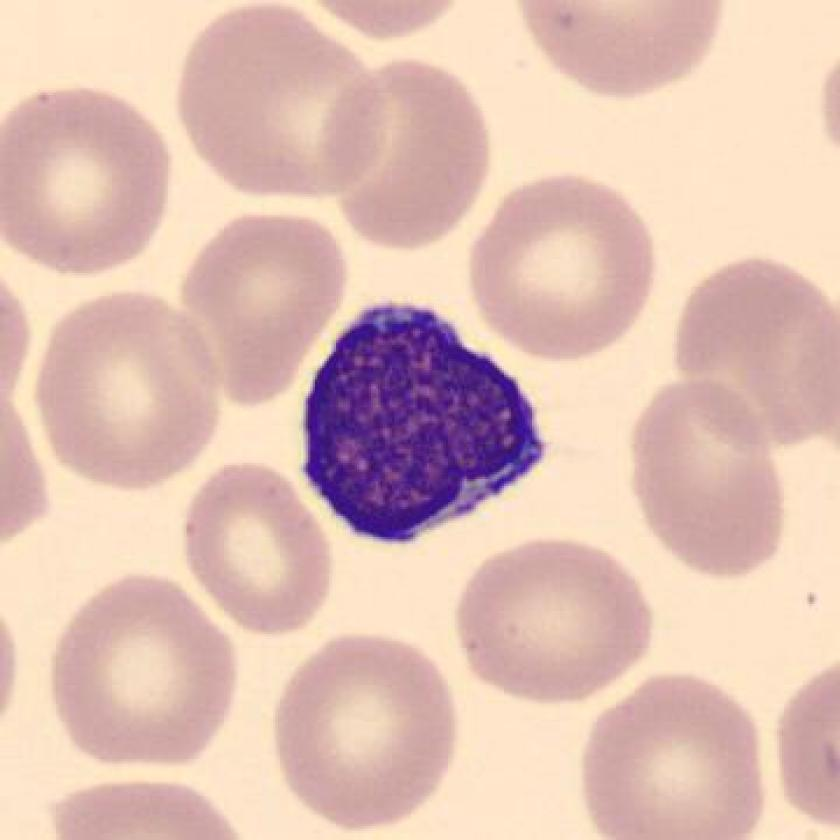lymphocyte: (281, 290, 556, 559)
